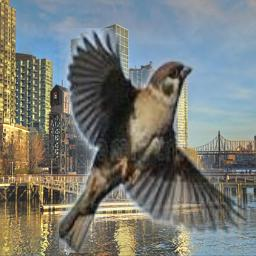Sparrow: (59, 28, 250, 253)
